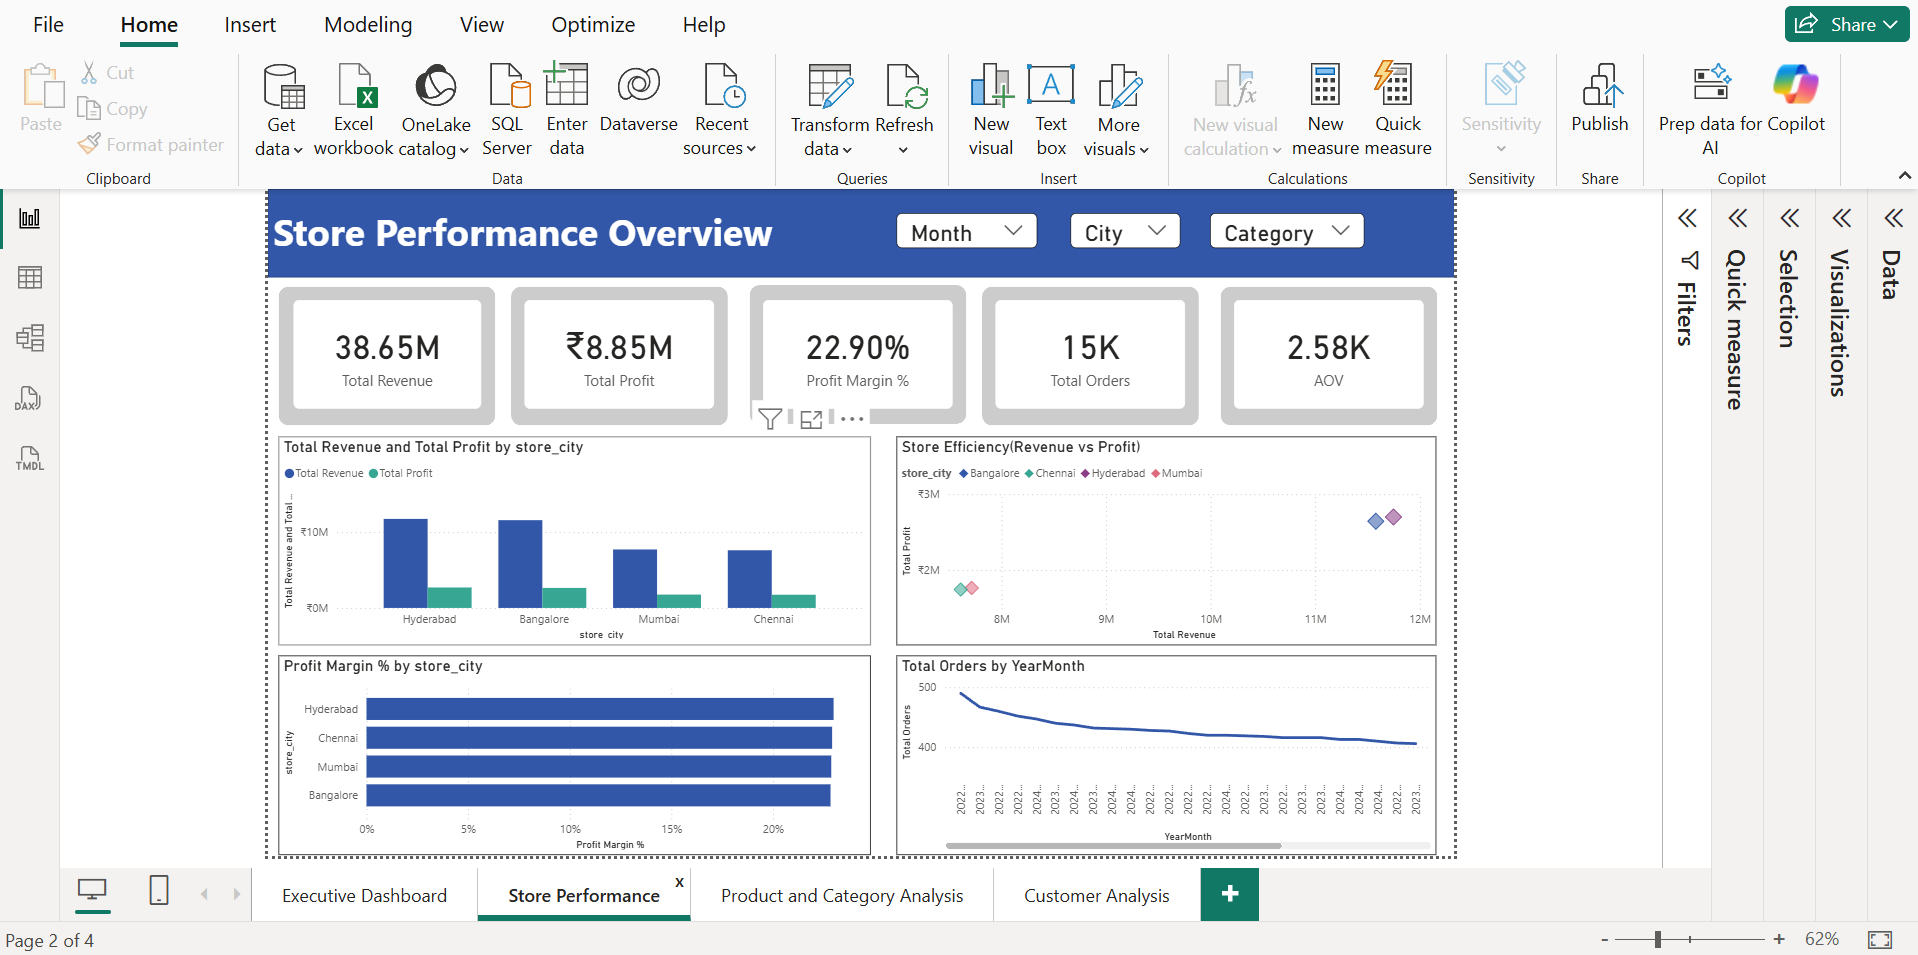

The dashboard page shown, as its layout file describes it:
{"tool":"powerbi","page":{"name":"Store Performance","canvas":[1280,720],"ordinal":1},"visuals":[{"type":"shape","box":[0,0,1280.8,95.5],"z":0},{"type":"textbox","title":"Store Performance Overview","box":[0,17.8,1280.8,58.3],"z":1000},{"type":"slicer","fields":{"Values":["Date.YearMonth"]},"box":[677.9,26.4,151.8,37.9],"z":2000},{"type":"slicer","fields":{"Values":["dim_stores.store_city"]},"box":[866,26.4,118.8,37.9],"z":3000},{"type":"slicer","fields":{"Values":["dim_products.category"]},"box":[1016.1,26.4,166.6,37.9],"z":4000},{"type":"shape","box":[11.5,105.6,234.2,150.1],"z":5000},{"type":"shape","box":[1027.6,105.6,234.2,150.1],"z":6000},{"type":"shape","box":[770.3,105.6,234.2,150.1],"z":7000},{"type":"shape","box":[519.6,103.9,234.2,150.1],"z":8000},{"type":"shape","box":[262.3,105.6,234.2,150.1],"z":9000},{"type":"card","fields":{"Values":["fact_sales.Total Revenue"]},"box":[28,120.4,202.9,117.1],"z":10000},{"type":"card","fields":{"Values":["fact_sales.Total Profit"]},"box":[277.1,120.4,204.5,117.1],"z":11000},{"type":"card","fields":{"Values":["fact_sales.AOV"]},"box":[1042.5,120.4,204.5,117.1],"z":12000},{"type":"card","fields":{"Values":["fact_sales.Total Orders"]},"box":[785.2,120.4,204.5,117.1],"z":13000},{"type":"card","fields":{"Values":["fact_sales.Profit Margin %"]},"box":[534.4,120.4,204.5,117.1],"z":14000},{"type":"clusteredColumnChart","fields":{"Category":["dim_stores.store_city"],"Y":["fact_sales.Total Revenue","fact_sales.Total Profit"]},"box":[11.3,267.2,639.6,225.1],"z":15000},{"type":"scatterChart","title":"Store Efficiency(Revenue vs Profit)","fields":{"X":["fact_sales.Total Revenue"],"Y":["fact_sales.Total Profit"],"Size":["fact_sales.Total Units"],"Series":["dim_stores.store_city"]},"box":[678.5,267.2,582.9,225.1],"z":16000},{"type":"barChart","fields":{"Category":["dim_stores.store_city"],"Y":["fact_sales.Profit Margin %"]},"box":[11.3,503.6,639.6,215.4],"z":17000},{"type":"lineChart","fields":{"Category":["Date.YearMonth"],"Y":["fact_sales.Total Orders"]},"box":[678.5,503.6,582.9,215.4],"z":18000}]}

Visuals, with their boxes on the page's 1280x720 design canvas (x1, y1, x2, y2). These are canvas units, not pixel positions in the 1918x955 screenshot, which may show the page scaled, cropped or inside an application window:
shape: (left=0, top=0, right=1281, bottom=96)
"Store Performance Overview" textbox: (left=0, top=18, right=1281, bottom=76)
slicer - Date.YearMonth: (left=678, top=26, right=830, bottom=64)
slicer - dim_stores.store_city: (left=866, top=26, right=985, bottom=64)
slicer - dim_products.category: (left=1016, top=26, right=1183, bottom=64)
shape: (left=12, top=106, right=246, bottom=256)
shape: (left=1028, top=106, right=1262, bottom=256)
shape: (left=770, top=106, right=1004, bottom=256)
shape: (left=520, top=104, right=754, bottom=254)
shape: (left=262, top=106, right=496, bottom=256)
card - fact_sales.Total Revenue: (left=28, top=120, right=231, bottom=238)
card - fact_sales.Total Profit: (left=277, top=120, right=482, bottom=238)
card - fact_sales.AOV: (left=1042, top=120, right=1247, bottom=238)
card - fact_sales.Total Orders: (left=785, top=120, right=990, bottom=238)
card - fact_sales.Profit Margin %: (left=534, top=120, right=739, bottom=238)
clusteredColumnChart - dim_stores.store_city x fact_sales.Total Revenue: (left=11, top=267, right=651, bottom=492)
"Store Efficiency(Revenue vs Profit)" scatterChart: (left=678, top=267, right=1261, bottom=492)
barChart - dim_stores.store_city x fact_sales.Profit Margin %: (left=11, top=504, right=651, bottom=719)
lineChart - Date.YearMonth x fact_sales.Total Orders: (left=678, top=504, right=1261, bottom=719)
